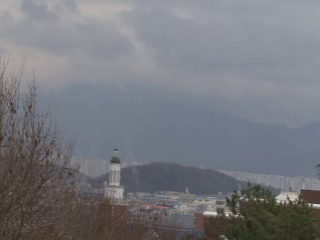smoke: (124, 158, 143, 182)
